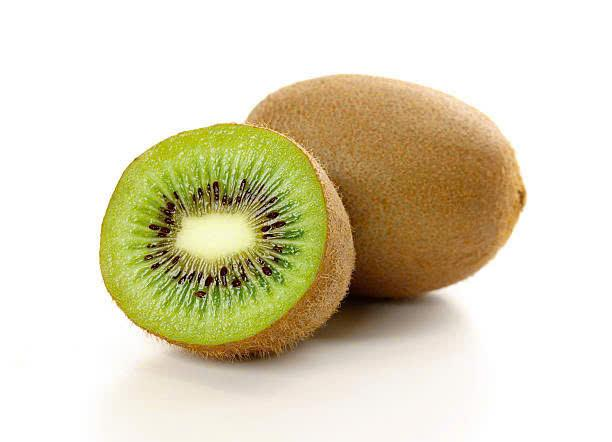kiwi: (91, 114, 357, 364), (356, 69, 538, 300)
